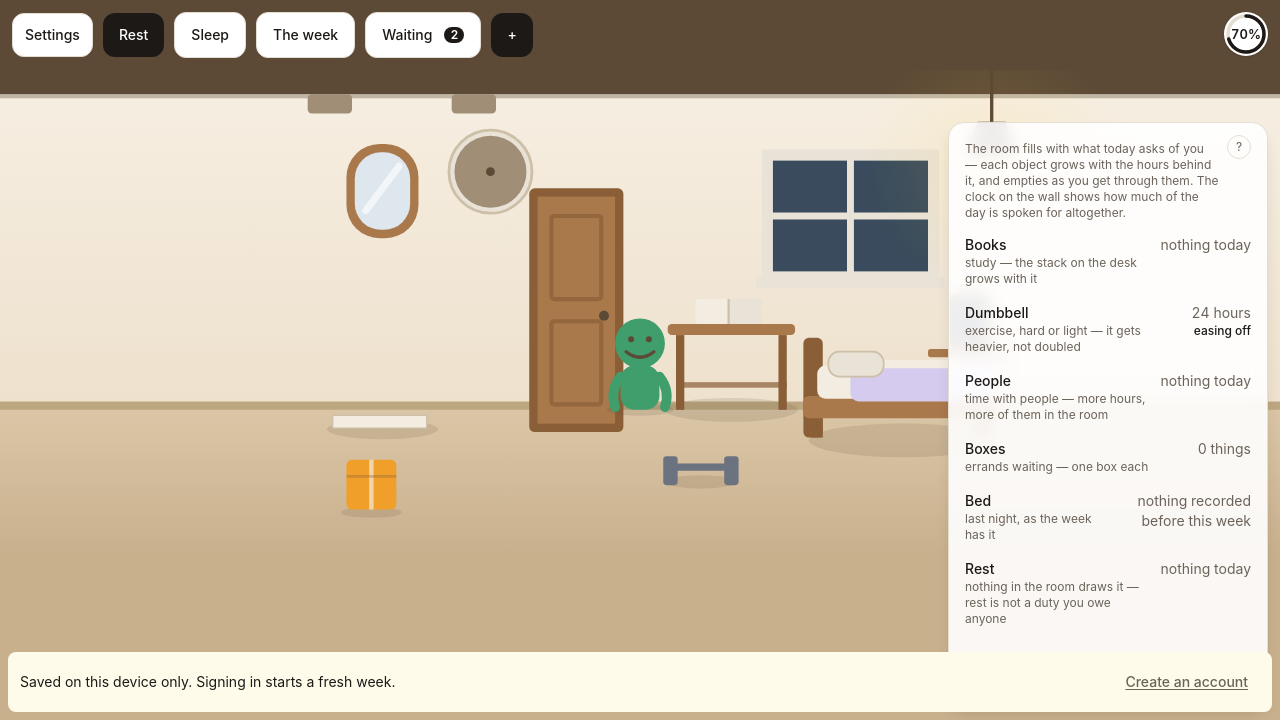
Test case: the waiting sheet › raises a micro-start card for the block whose slot it is
Click the button with test id "open-notices": (423, 35) left=365, top=12, right=481, bottom=58
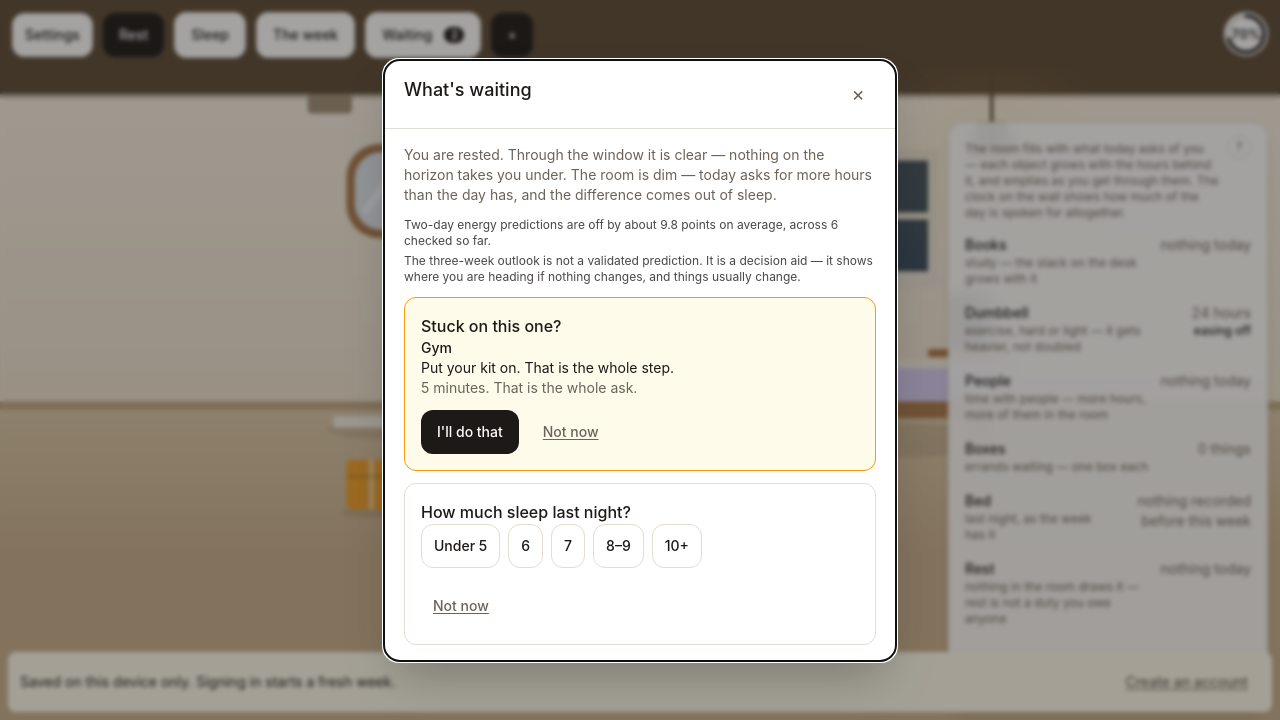
Check: the message with test id "micro-start" is shown, box left=404, top=296, right=876, bottom=470
Check: the text with test id "micro-start-title" reads "Gym", box left=421, top=338, right=452, bottom=356
